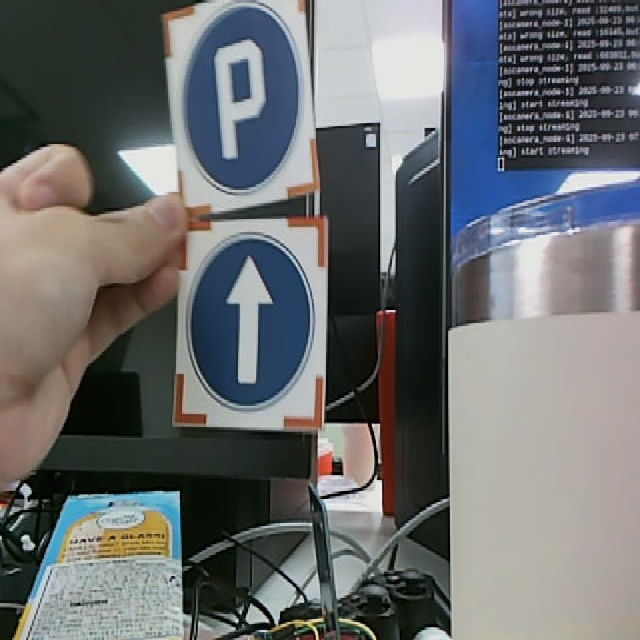parking: (161, 2, 321, 210)
straight: (170, 220, 331, 433)
